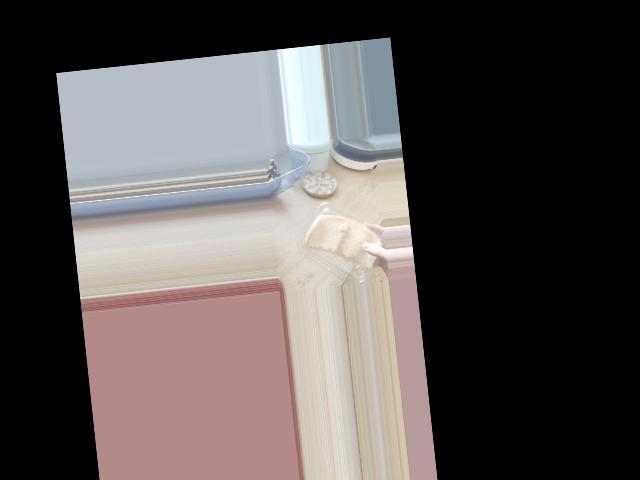cheese: (283, 189, 382, 288)
